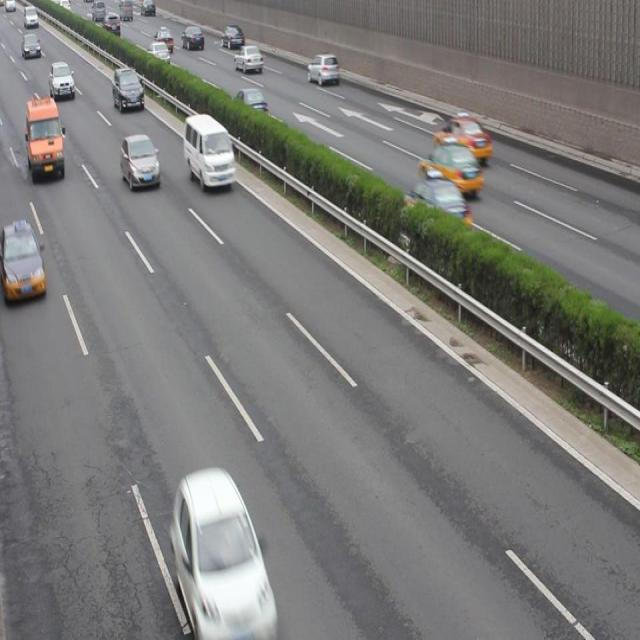car: (169, 470, 275, 640), (399, 170, 470, 234), (417, 138, 482, 195), (1, 218, 45, 300), (432, 112, 492, 163), (121, 134, 160, 187), (112, 67, 144, 112), (307, 52, 338, 82), (51, 60, 74, 100), (235, 89, 269, 116), (234, 46, 263, 72), (220, 23, 243, 50), (148, 44, 170, 66), (24, 34, 42, 60), (182, 26, 205, 46), (101, 11, 120, 34), (156, 28, 174, 49)
truck: (185, 115, 235, 186), (26, 98, 64, 181)
